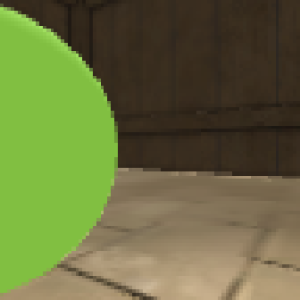goodGoal: (1, 2, 118, 292)
